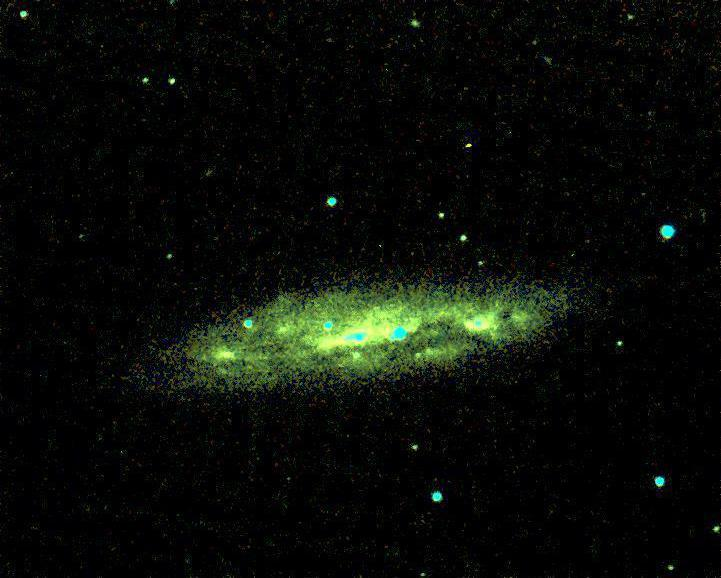star: (453, 131, 483, 161)
